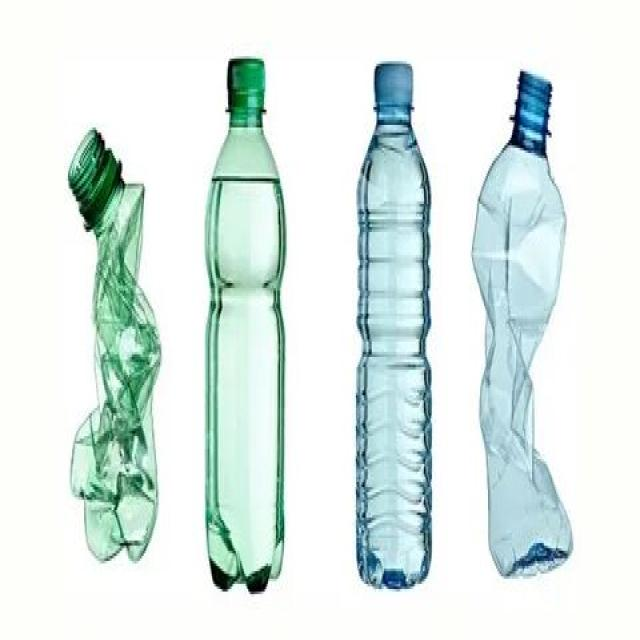blue: (471, 69, 574, 580), (355, 105, 432, 587)
green: (65, 125, 162, 568), (202, 104, 285, 596)
